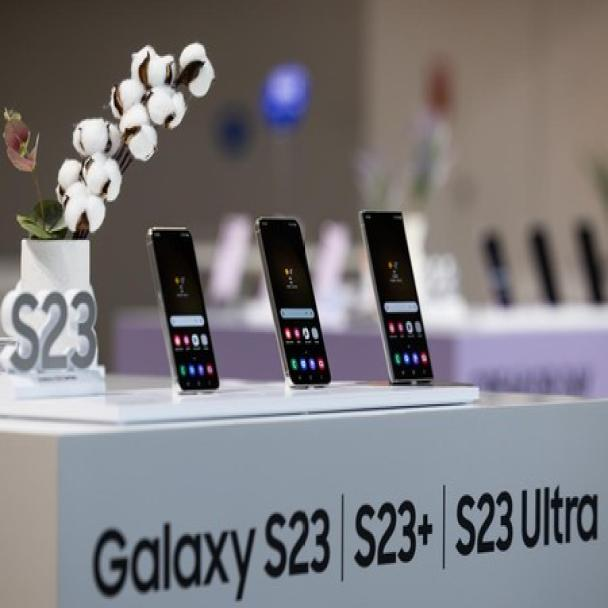Handphone: (352, 204, 441, 393), (251, 213, 336, 398), (141, 222, 227, 401)
